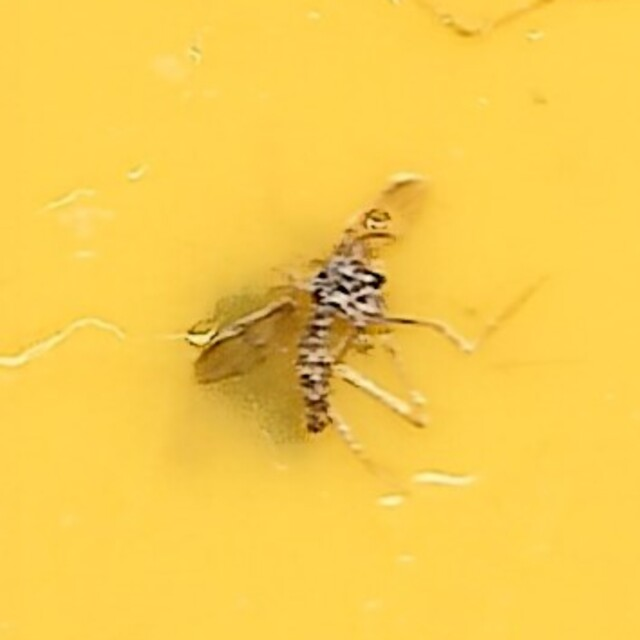Nematocera: (181, 182, 459, 458)
